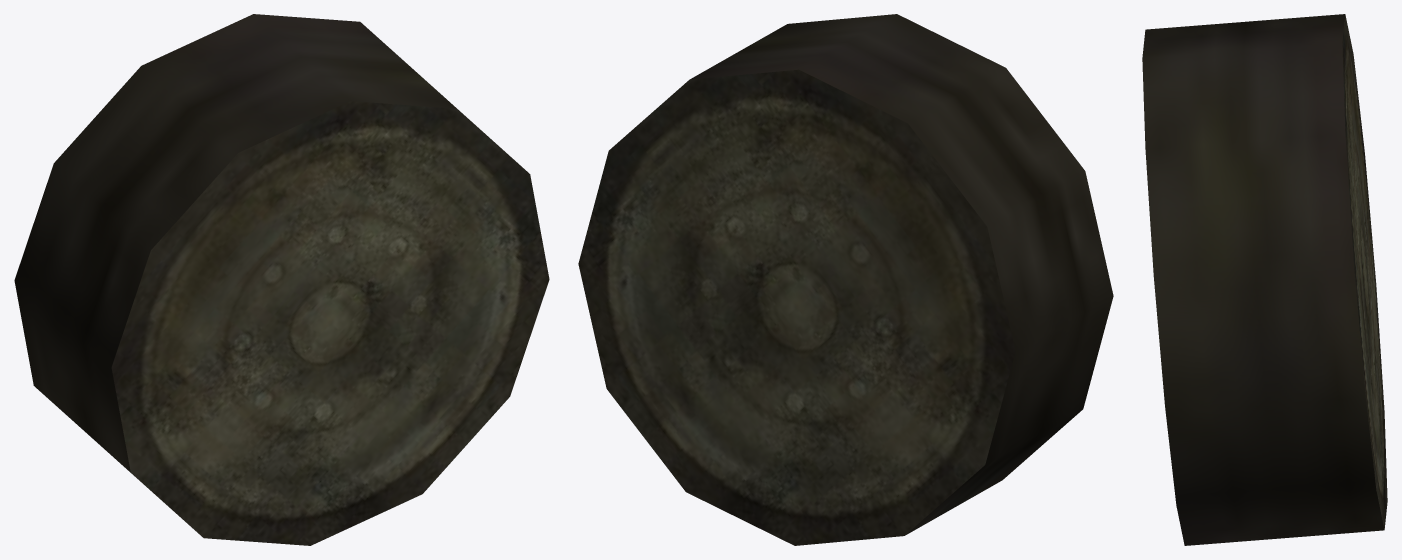
File: prop_vehicle_crusader2_part1.glb
The picture shows the model from 3 angles, left to right: view 1: azimuth 30°, elevation 25°; view 2: azimuth 150°, elevation 25°; view 3: azimuth 270°, elevation 25°; orthographic projection. The views are drawn at different scales.
Bounding box in the file's own units: 34.87 × 35.87 × 16.49.
Materials: 1 (1 with a texture image).
